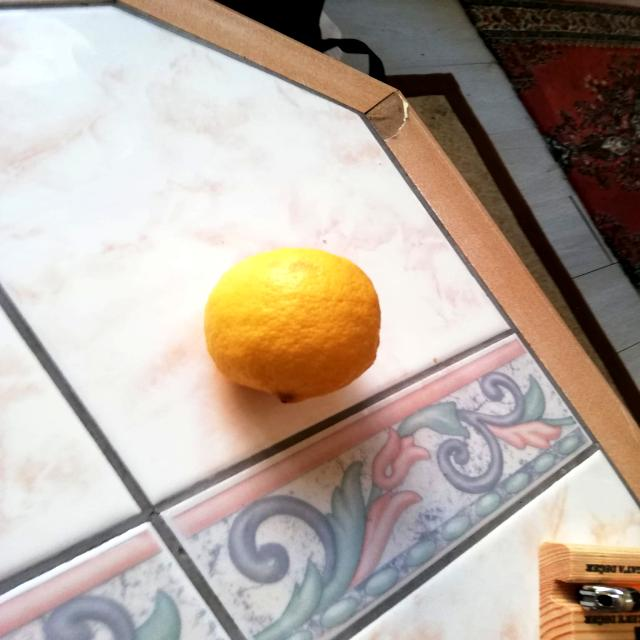lemon: (201, 246, 392, 405)
